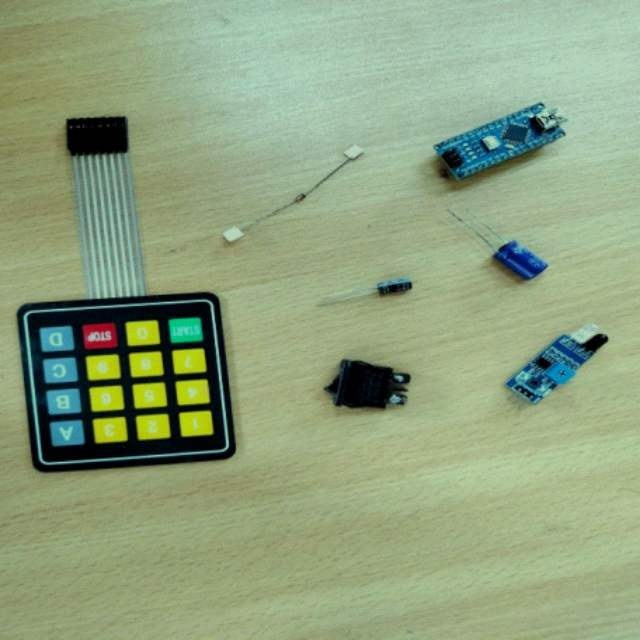capacitor: (492, 242, 545, 283), (378, 280, 412, 298)
